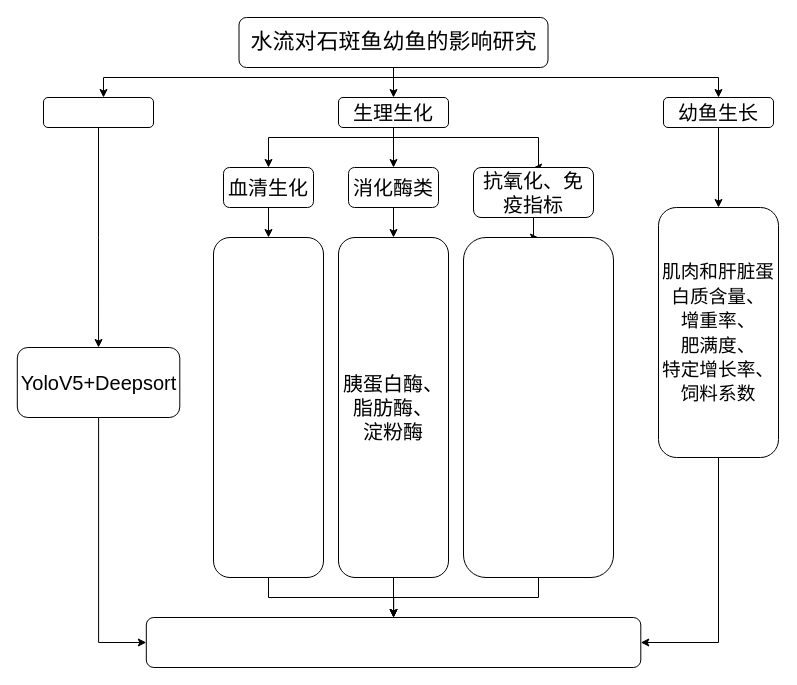
This 797x685 diagram has some shape labels left out. Each missing label, with the centre of its shape:
"游泳轨迹" belongs at point (98, 112).
"超氧化物歧化酶、 丙二醛、 过氧化氢酶、 总抗氧化能力、 补体蛋白、 髓过氧化物酶、 免疫球蛋白、 溶菌酶" belongs at point (538, 407).
"选择最适合水流速度并探究其影响规律及作用机理" belongs at point (393, 642).
"高密度脂蛋白胆固醇、 低密度脂蛋白胆固醇、 皮质醇、 5-羟色胺" belongs at point (268, 407).
